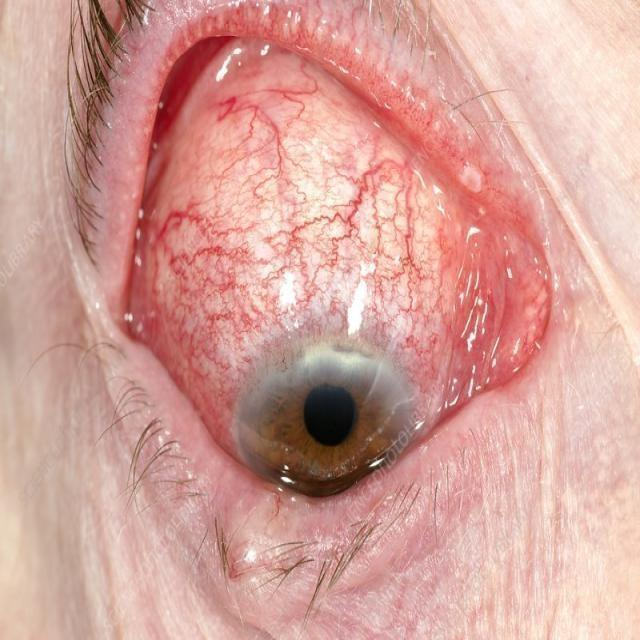Conjunctivitis: (109, 43, 562, 426)
